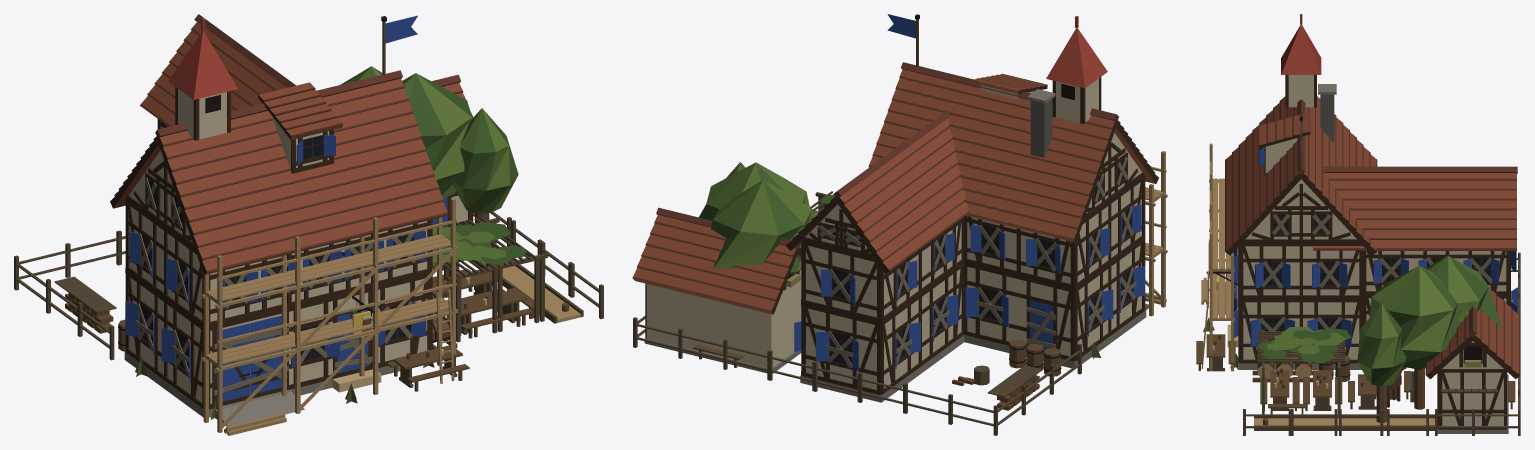
The model's file is wirt.glb.
The picture shows the model from 3 angles, left to right: view 1: azimuth 30°, elevation 25°; view 2: azimuth 150°, elevation 25°; view 3: azimuth 270°, elevation 25°; orthographic projection. The views are drawn at different scales.
Parts seen in each view (by area): view 1: Haus, Geruest, Stufe3, Stufe1, Stufe2, Leerstand, Fahne; view 2: Haus, Stufe3, Stufe1, Stufe2, Leerstand, Geruest, Fahne; view 3: Haus, Stufe3, Stufe1, Stufe2, Geruest, Leerstand.
Part boxes in pixels (x1,y1,x2,y2): Haus: (110, 14, 448, 426); Geruest: (201, 198, 457, 435); Stufe3: (19, 18, 598, 342); Stufe1: (14, 73, 603, 391); Stufe2: (258, 66, 583, 338); Leerstand: (135, 178, 434, 419); Fahne: (381, 15, 417, 75); Haus: (785, 62, 1158, 402); Stufe3: (632, 16, 1107, 425); Stufe1: (633, 162, 1081, 435); Stufe2: (693, 73, 1047, 367); Leerstand: (819, 157, 1136, 368); Geruest: (1145, 151, 1167, 316); Fahne: (887, 14, 919, 67); Haus: (1206, 84, 1517, 369); Stufe3: (1246, 14, 1520, 435); Stufe1: (1196, 252, 1520, 435); Stufe2: (1254, 112, 1515, 430); Geruest: (1201, 143, 1234, 371); Leerstand: (1203, 214, 1512, 369).
Size of the model in its own units: 15.79 by 13.17 by 13.69.
